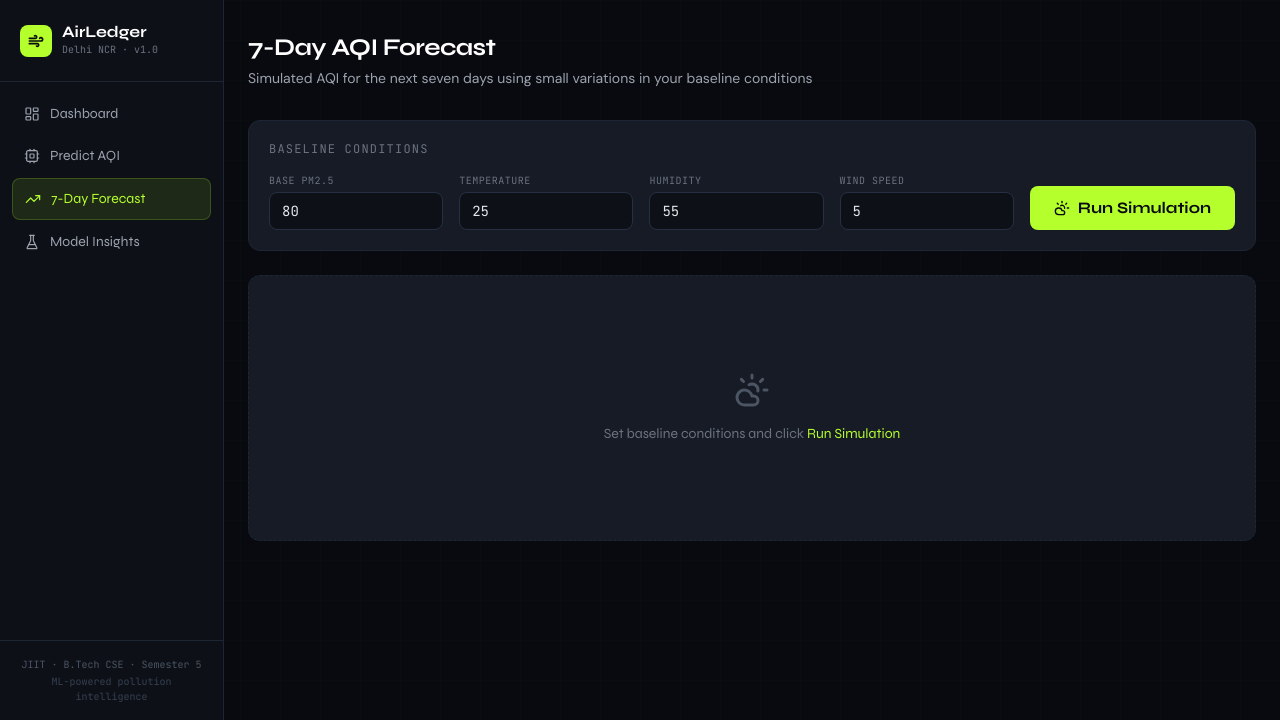
Scenario: AirLedger pages › renders seven simulated days
Step 1. Click the button "Run Simulation" → coordinates (1132, 208), box [1030, 186, 1235, 230]
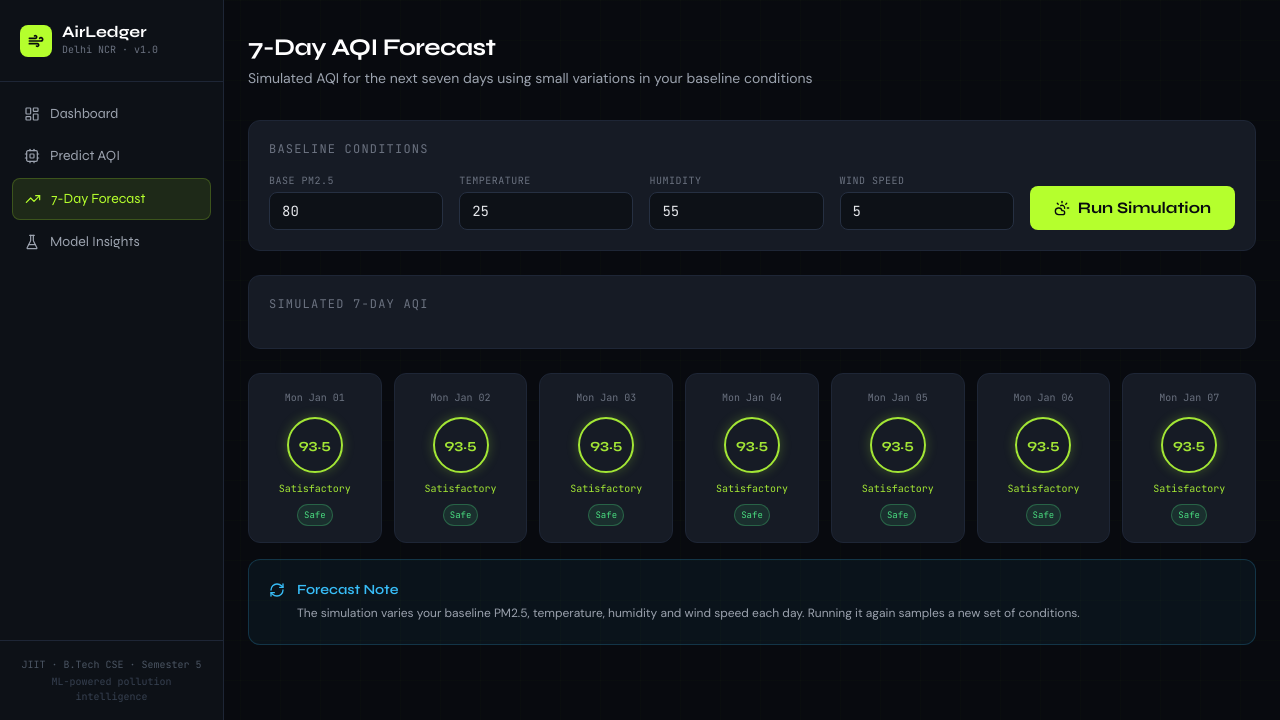
Expected: the text "Simulated 7-Day AQI" is shown, [269, 296, 429, 312]
Expected: the text "Satisfactory" is shown 7 times
